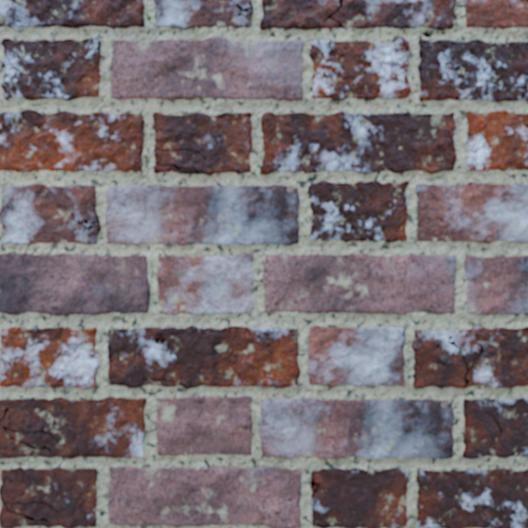brick: (261, 111, 455, 174), (111, 37, 302, 100), (109, 466, 300, 527), (108, 326, 299, 387), (259, 399, 453, 458), (105, 185, 297, 244), (263, 254, 455, 312), (0, 253, 149, 314), (0, 110, 143, 171), (0, 398, 145, 457), (412, 326, 527, 387), (416, 182, 527, 242), (419, 40, 527, 101), (416, 469, 527, 527), (310, 37, 409, 99), (2, 36, 99, 99), (153, 113, 251, 174), (308, 181, 407, 241), (0, 327, 97, 388), (0, 184, 99, 243), (157, 254, 252, 314), (308, 326, 404, 385), (0, 468, 96, 527), (311, 469, 407, 527), (157, 396, 251, 455), (0, 0, 143, 28), (463, 398, 527, 458), (466, 111, 527, 170), (333, 0, 455, 29), (465, 256, 527, 313), (155, 0, 252, 29), (260, 0, 338, 29), (466, 0, 527, 27), (154, 165, 194, 173), (234, 0, 250, 6)
crack: (448, 335, 485, 388), (0, 497, 57, 525), (64, 205, 98, 233), (154, 146, 207, 159), (155, 161, 199, 174), (322, 0, 343, 27), (142, 377, 187, 387), (229, 0, 252, 17), (310, 478, 321, 493), (418, 29, 433, 37), (312, 522, 329, 527), (292, 198, 299, 206), (440, 29, 447, 35), (453, 13, 458, 21), (401, 330, 405, 336)
